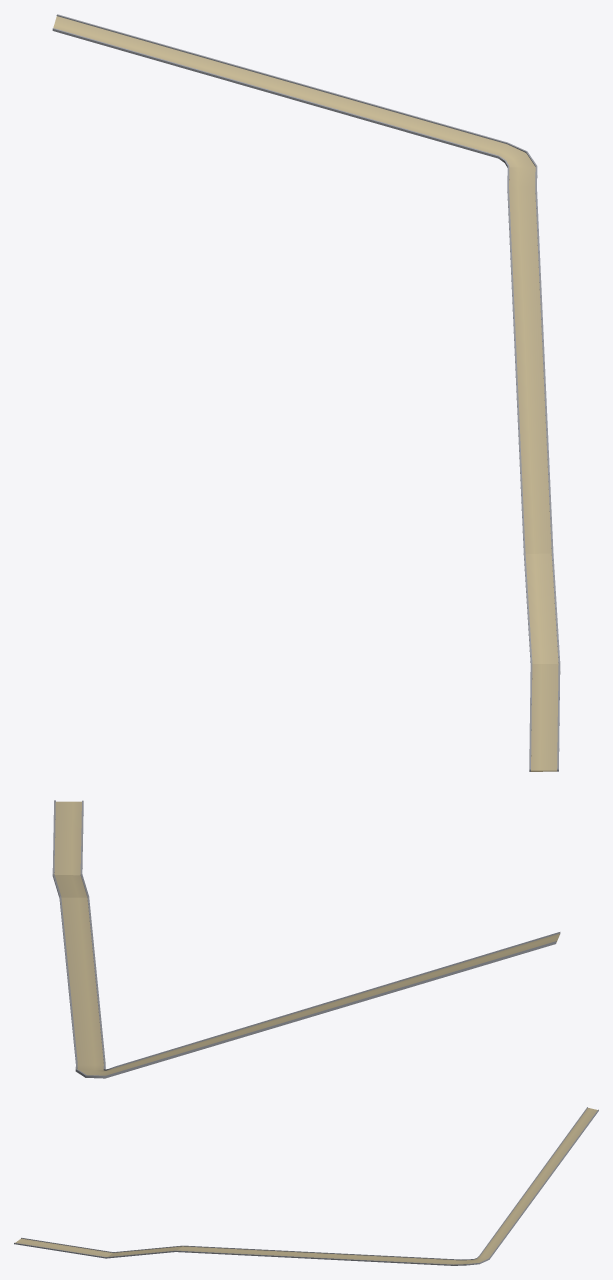
File: sidewalk_12.fbx
3 renders of one model, top to bottom at view 1: azimuth 30°, elevation 25°; view 2: azimuth 210°, elevation 25°; view 3: azimuth 270°, elevation 25°, orthographic. The views are drawn at different scales.
Visible parts, largest first — view 1: sidewalk_11; view 2: sidewalk_11; view 3: sidewalk_11.
Part boxes in pixels (x1,y1,x2,y2): sidewalk_11: (52, 14, 560, 771); sidewalk_11: (52, 800, 560, 1078); sidewalk_11: (14, 1107, 598, 1265).
Bounding box in the file's own units: 5.75 × 3.73 × 12.77.
Materials: 1 (1 with a texture image).
